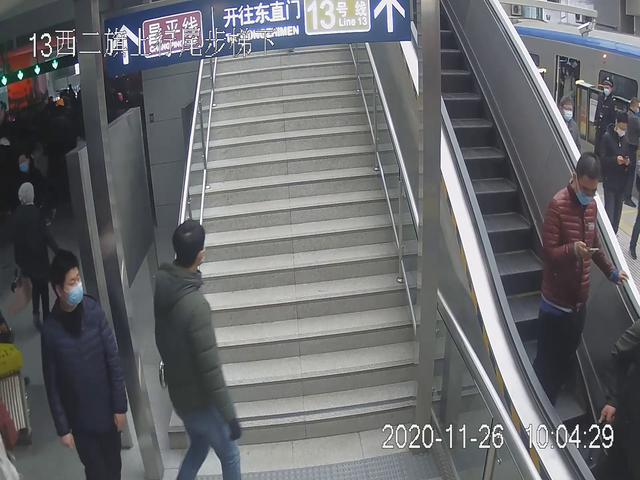person: (524, 144, 631, 422), (149, 219, 245, 480), (40, 249, 135, 480)
